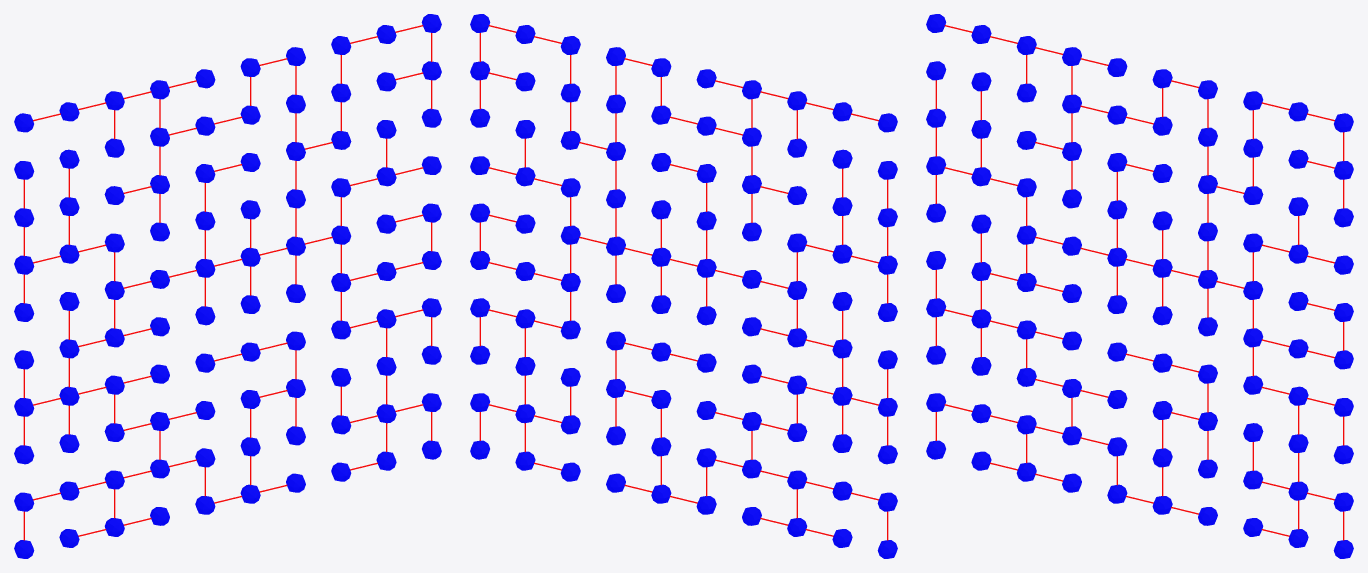
Rendered from Maze10x10.glb.
3 views of the same model, side by side, from view 1: azimuth 30°, elevation 25°; view 2: azimuth 150°, elevation 25°; view 3: azimuth 330°, elevation 25° (orthographic).
Bounding box in the file's own units: 9.4 × 9.4 × 0.4.
